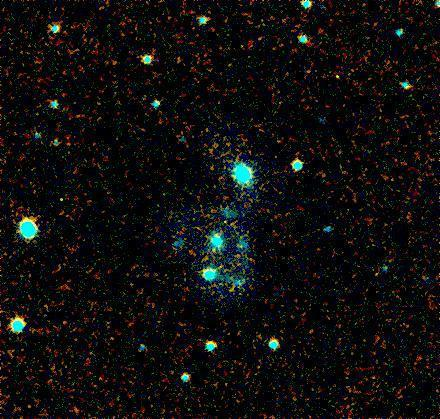star: (211, 206, 241, 236)
